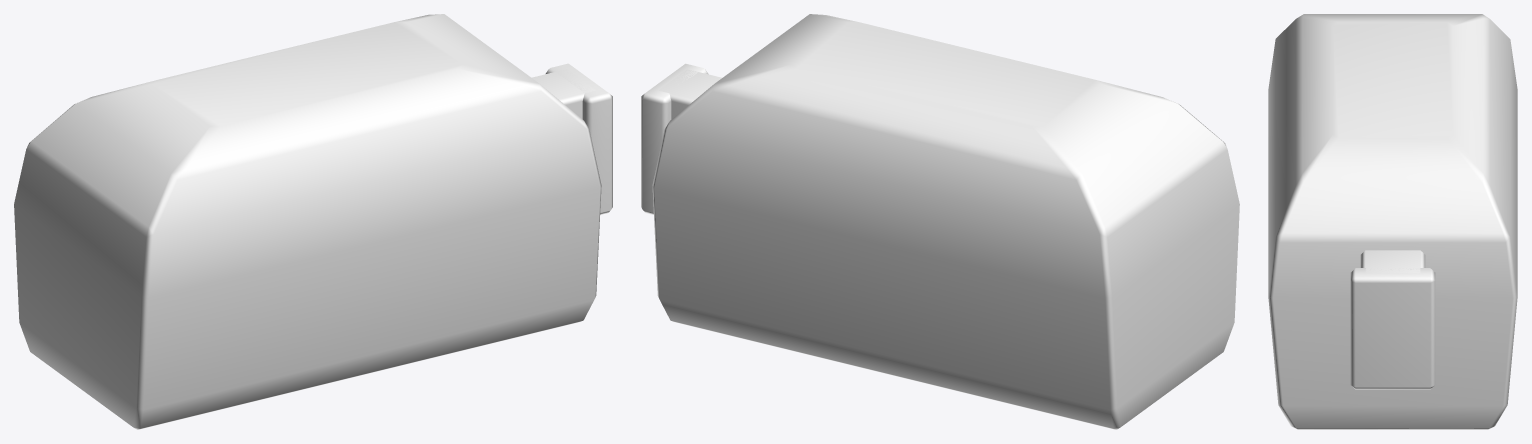
The model's file is bread.glb.
3 views of the same model, side by side, from view 1: azimuth 30°, elevation 25°; view 2: azimuth 150°, elevation 25°; view 3: azimuth 270°, elevation 25° (orthographic). The views are drawn at different scales.
Parts seen in each view (by area): view 1: Bread; view 2: Bread; view 3: Bread.
Part boxes in pixels (x1,y1,x2,y2): Bread: [14, 14, 612, 429]; Bread: [641, 14, 1239, 429]; Bread: [1268, 14, 1517, 429].
Bounding box in the file's own units: 0.224 × 0.11 × 0.1.
Materials: 1 (1 with a texture image).
